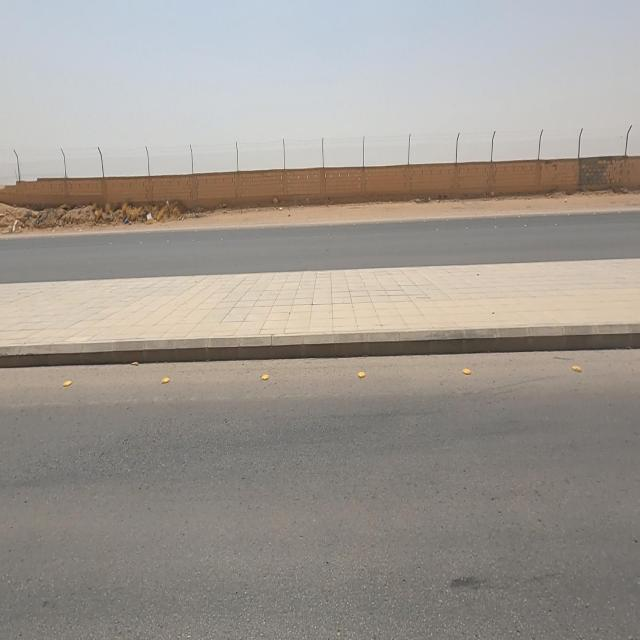debris: (132, 189, 165, 244), (0, 196, 29, 257), (109, 198, 138, 245)
